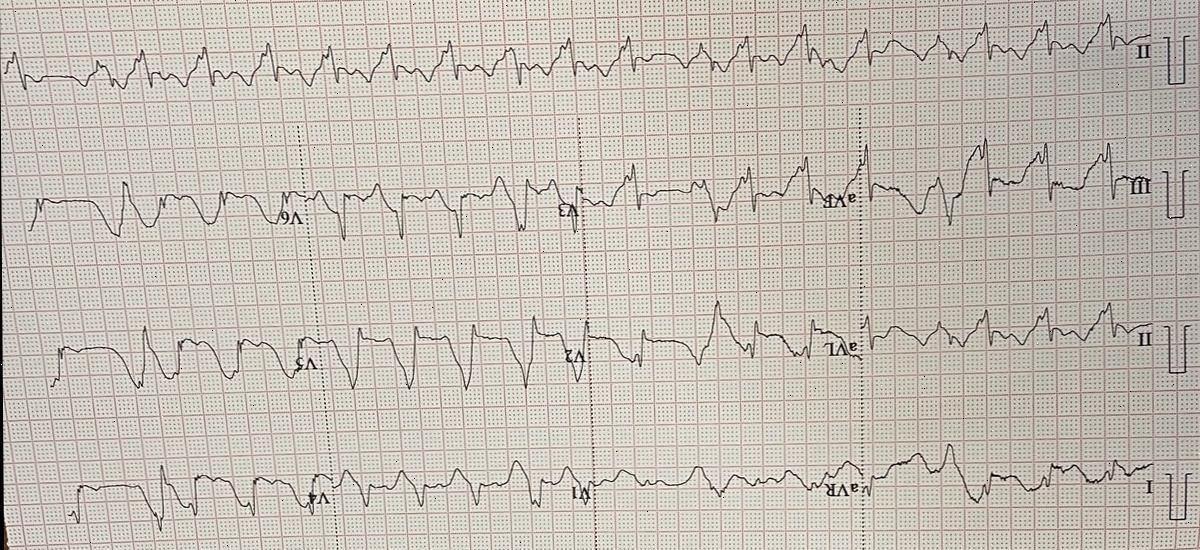Lead_I: (857, 292, 1162, 372), (860, 439, 1161, 506)
